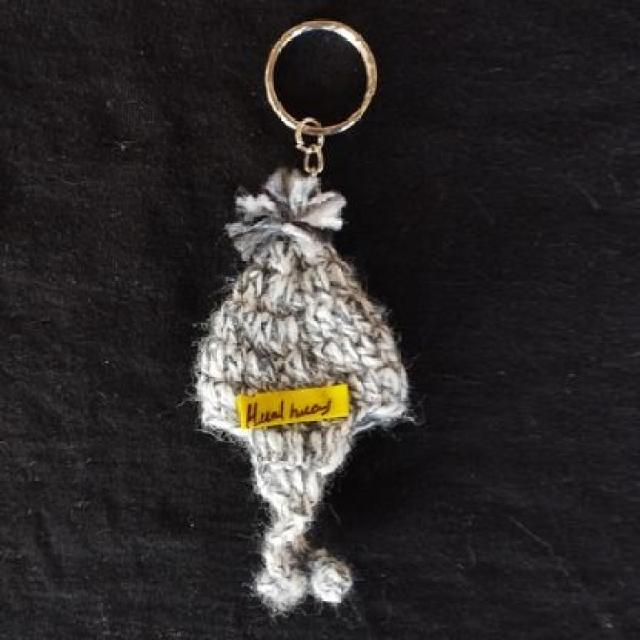Llavero: (190, 165, 415, 617)
